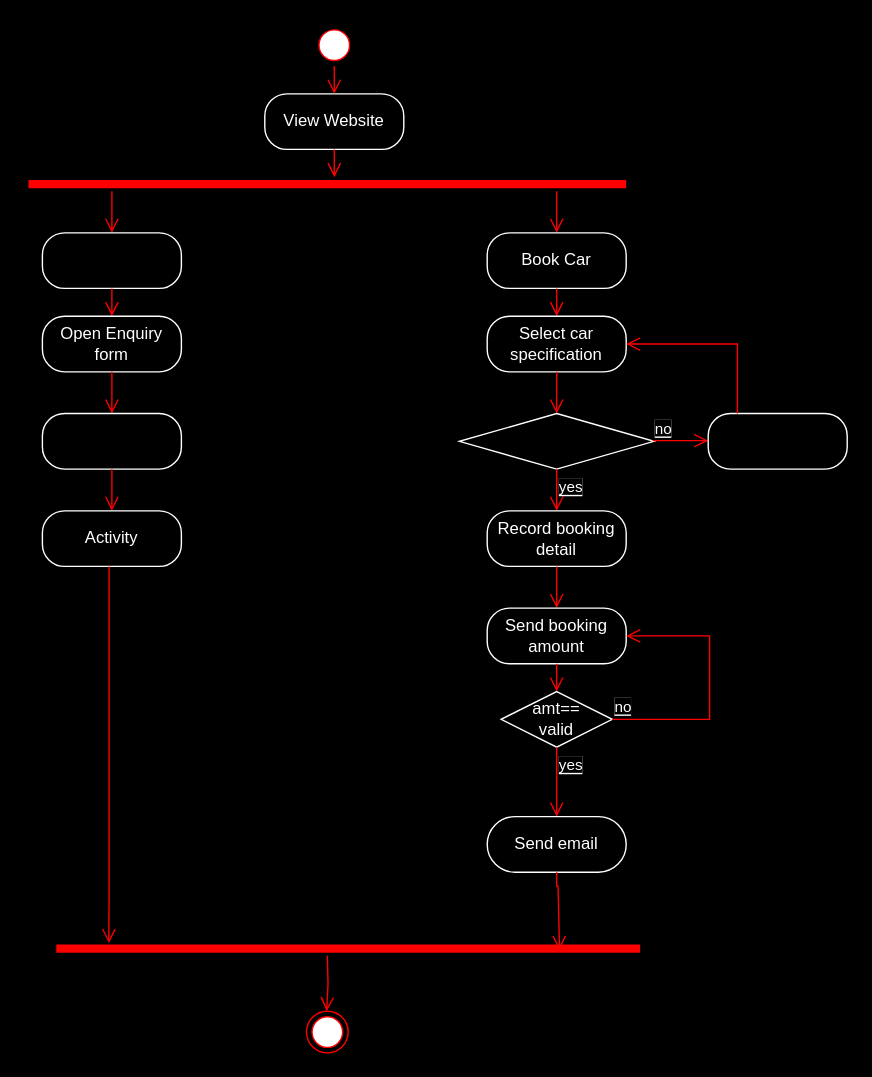
The diagram is 872 pixels wide and 1077 high, and some of its shapes have lost their labels. Here are the shapes that lost their labels. From the top down, the box of each, then its label:
(41, 231, 181, 288): Enquiry
(41, 412, 181, 469): Fill Details
(458, 412, 654, 469): Spec== available
(707, 412, 847, 469): Display error message
